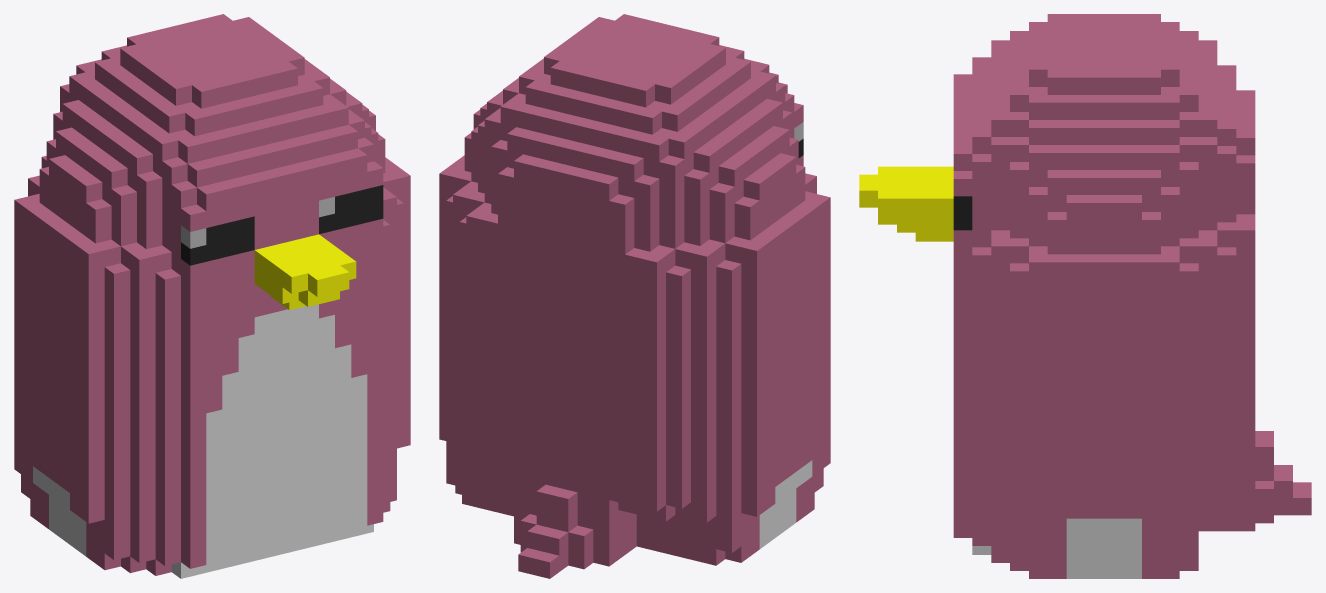
Rendered from penguin09_body.obj.
3 renders of one model, left to right at view 1: azimuth 30°, elevation 25°; view 2: azimuth 150°, elevation 25°; view 3: azimuth 270°, elevation 25°, orthographic. The views are drawn at different scales.
Bounding box in the file's own units: 2 × 2.7 × 2.4.
1 material, 1 textured.
